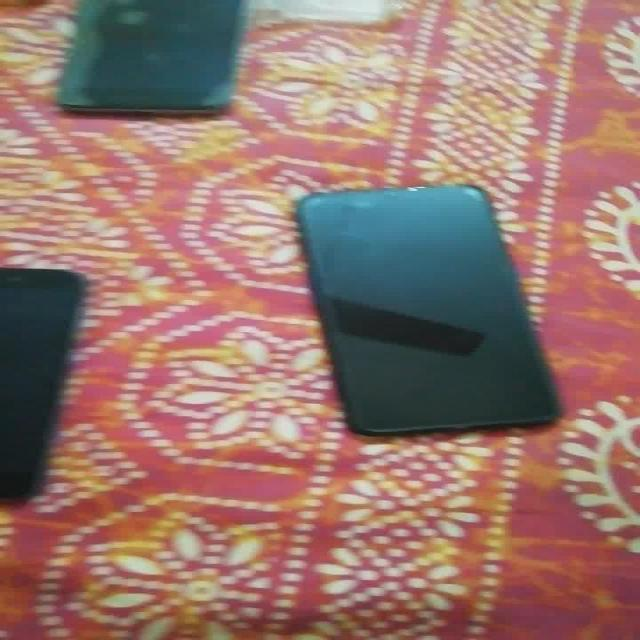phone: (298, 182, 564, 444), (58, 5, 248, 113), (1, 264, 90, 490)
